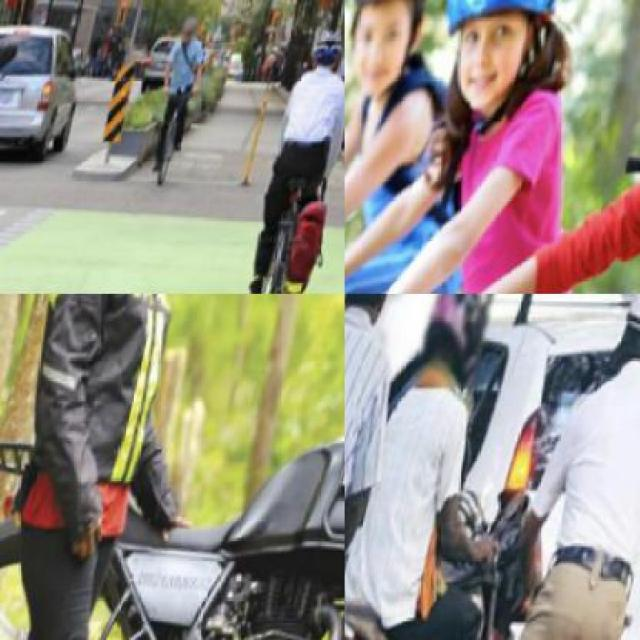With Helmet: (418, 0, 580, 140), (409, 294, 506, 401), (344, 0, 454, 88), (308, 30, 343, 81), (176, 16, 207, 55)
